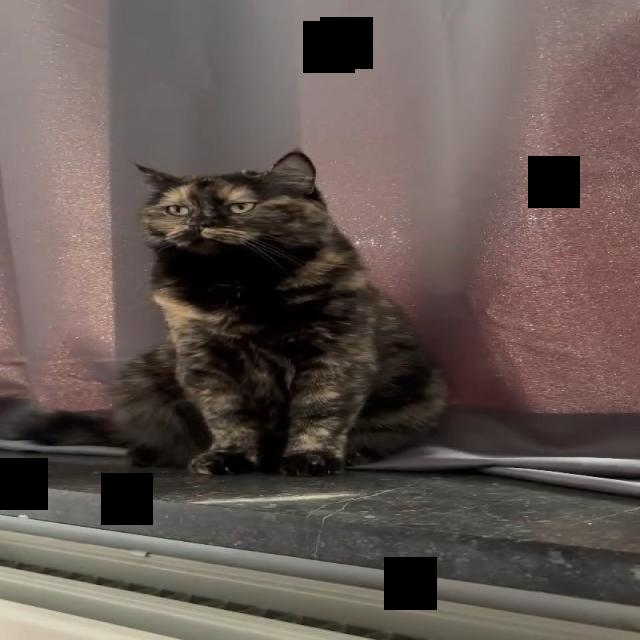authorized: (107, 149, 450, 477)
